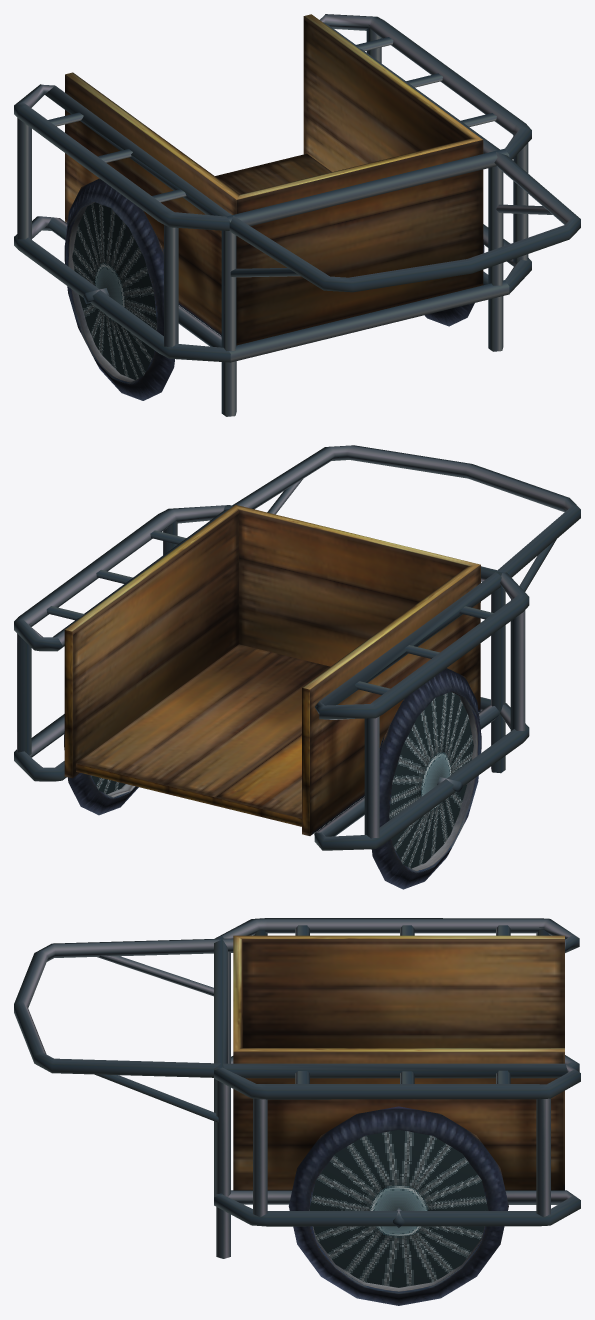
Rendered from a_SWEfire02.glb.
3 views of the same model, one above another, from view 1: azimuth 30°, elevation 25°; view 2: azimuth 150°, elevation 25°; view 3: azimuth 270°, elevation 25° (orthographic). The views are drawn at different scales.
Parts seen in each view (by area): view 1: a_SWEfire02; view 2: a_SWEfire02; view 3: a_SWEfire02.
Boxes of the visible parts, x1,y1,x2,y2 form: a_SWEfire02: (14,14,580,416); a_SWEfire02: (14,445,580,889); a_SWEfire02: (14,918,580,1305).
Bounding box in the file's own units: 1.52 × 0.9599 × 2.05.
Materials: 2 (2 with a texture image).
